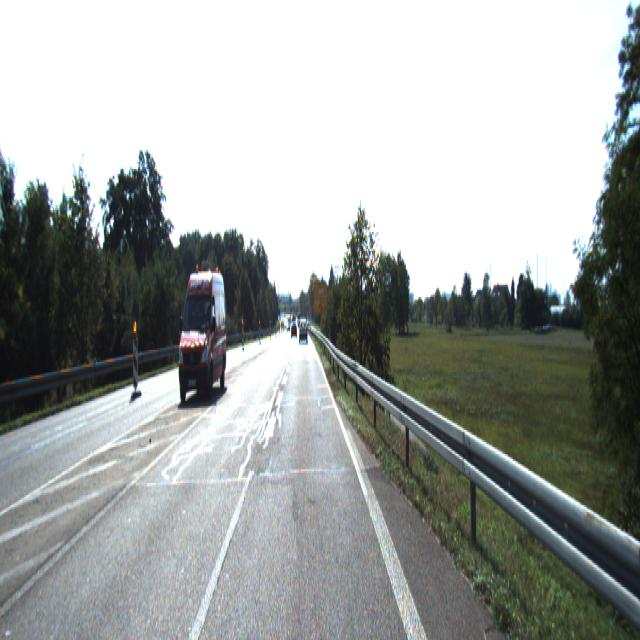Car: (176, 272, 226, 416), (300, 322, 308, 344)
